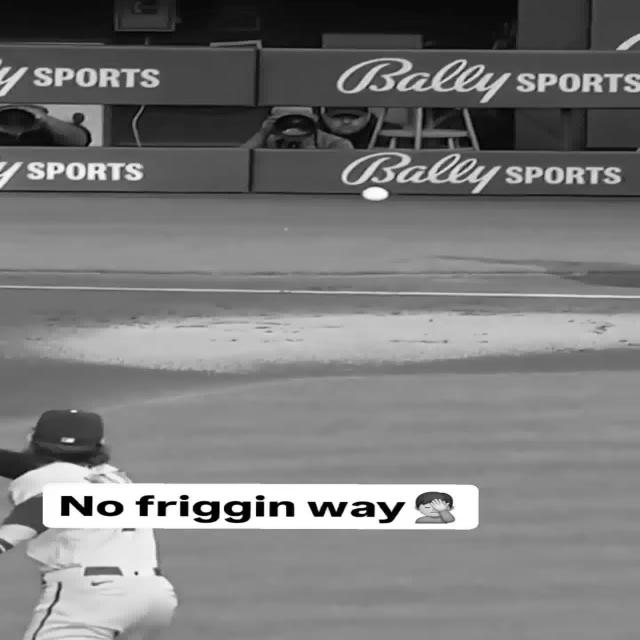baseball: (362, 186, 389, 201)
